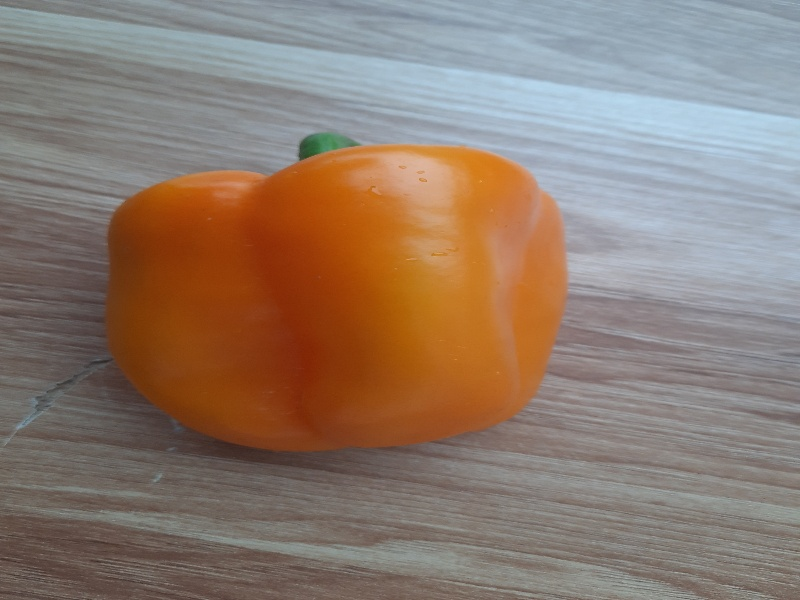vege: (96, 115, 571, 460)
